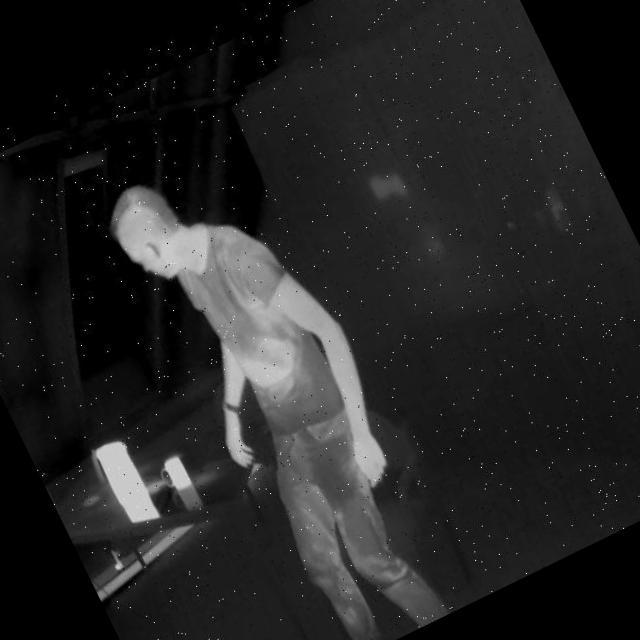person: (76, 107, 481, 640)
